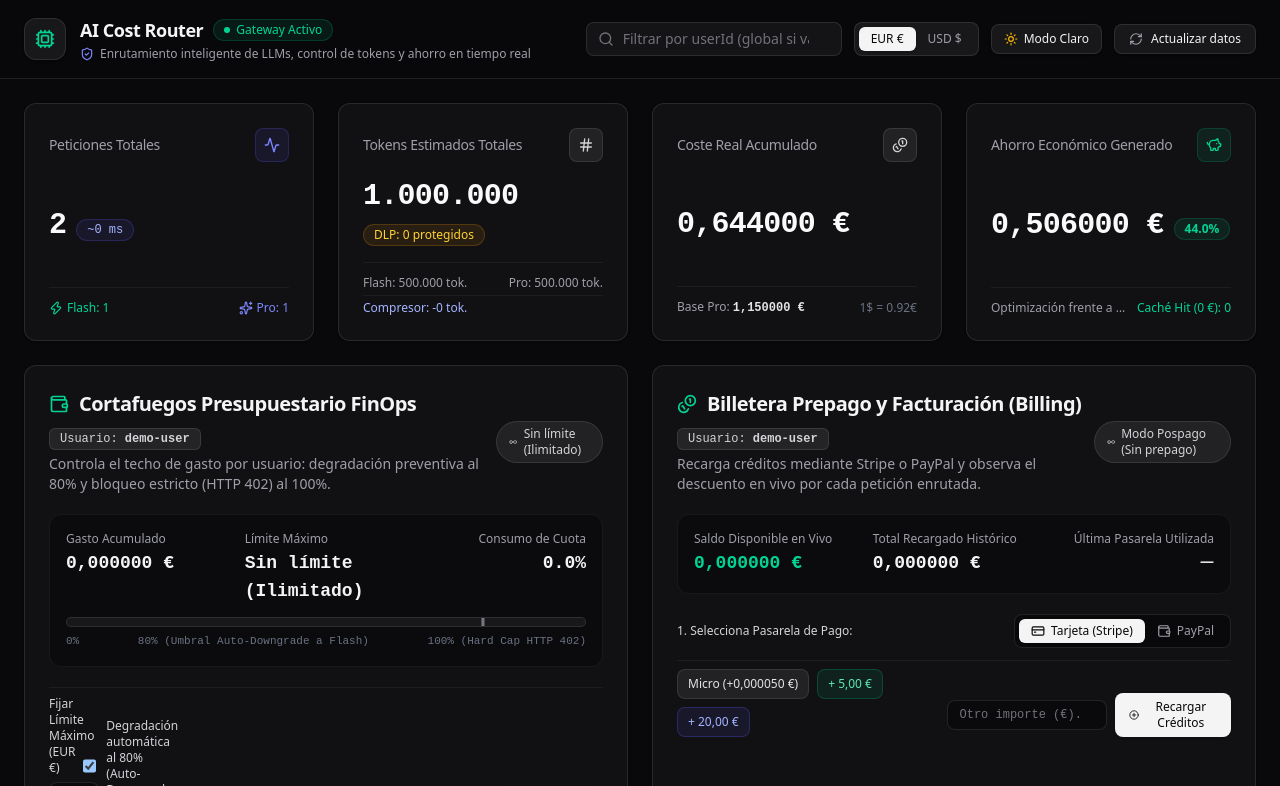
AI Cost Router Dashboard - Pruebas de Integración › permite recargar créditos en WalletBillingCard seleccionando PayPal y actualiza el saldo y estado prepago
Expected: the element with test id "wallet-status-badge" reads "Modo Pospago (Sin prepago)", x1=1121 y1=425 x2=1206 y2=458
Expected: the text with test id "wallet-balance-value" reads "0,000000 €", x1=694 y1=553 x2=802 y2=573
// Seleccionar PayPal y pulsar recarga rápida de + 5,00 €
Click the button with test id "payment-method-paypal" at coordinates (1185, 631), box x1=1145 y1=619 x2=1226 y2=643
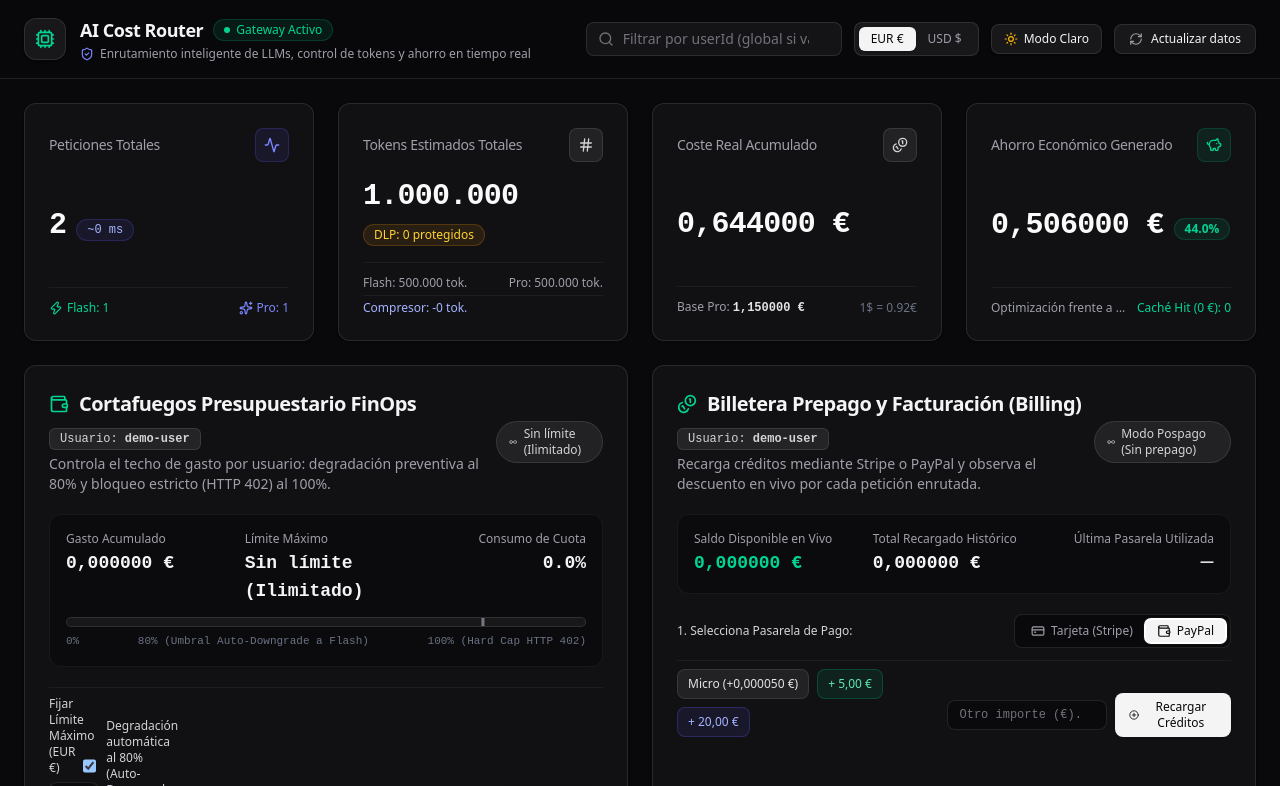
Click the button with test id "wallet-topup-5" at coordinates (850, 684), box x1=817 y1=669 x2=883 y2=699
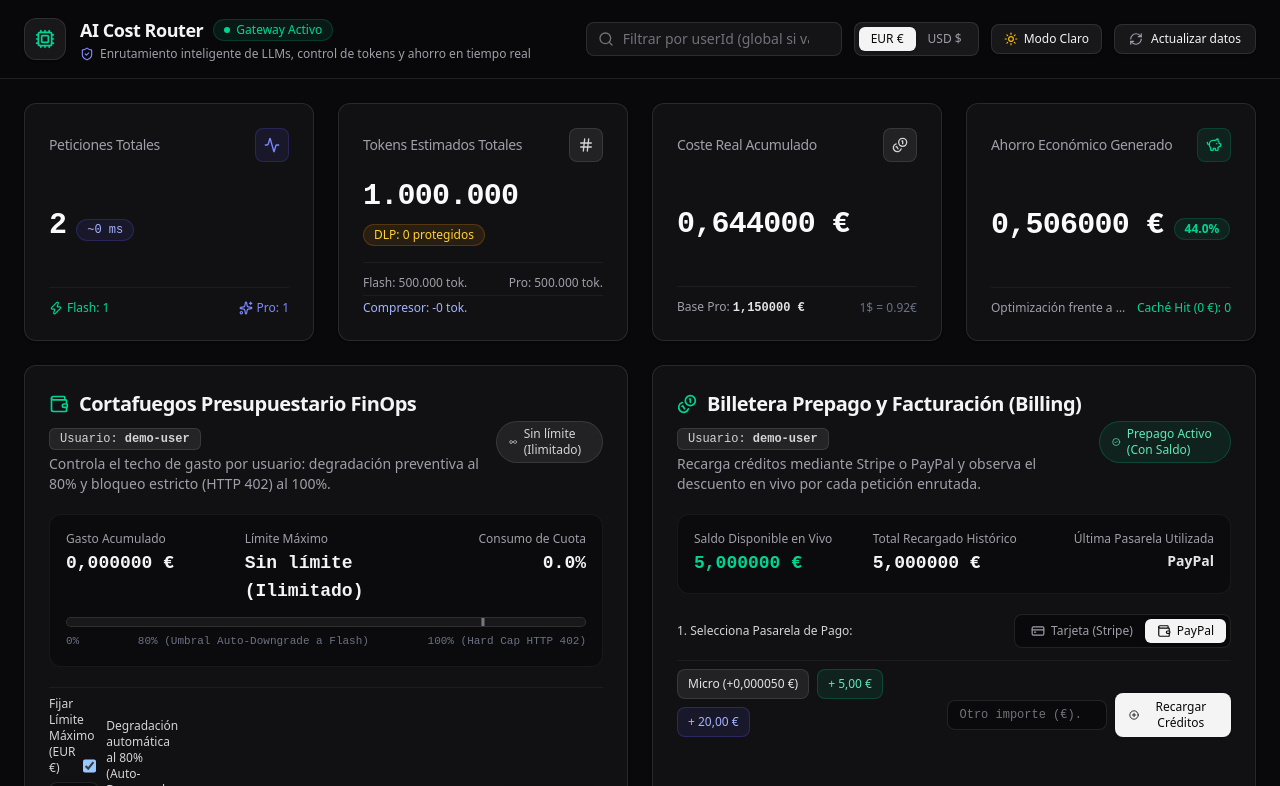
Result: the element with test id "wallet-status-badge" reads "Prepago Activo (Con Saldo)" at x1=1127 y1=425 x2=1212 y2=458
Result: the text with test id "wallet-balance-value" reads "5,000000 €" at x1=694 y1=553 x2=802 y2=573
Result: the text with test id "wallet-last-method" reads "PayPal" at x1=1167 y1=551 x2=1214 y2=570
